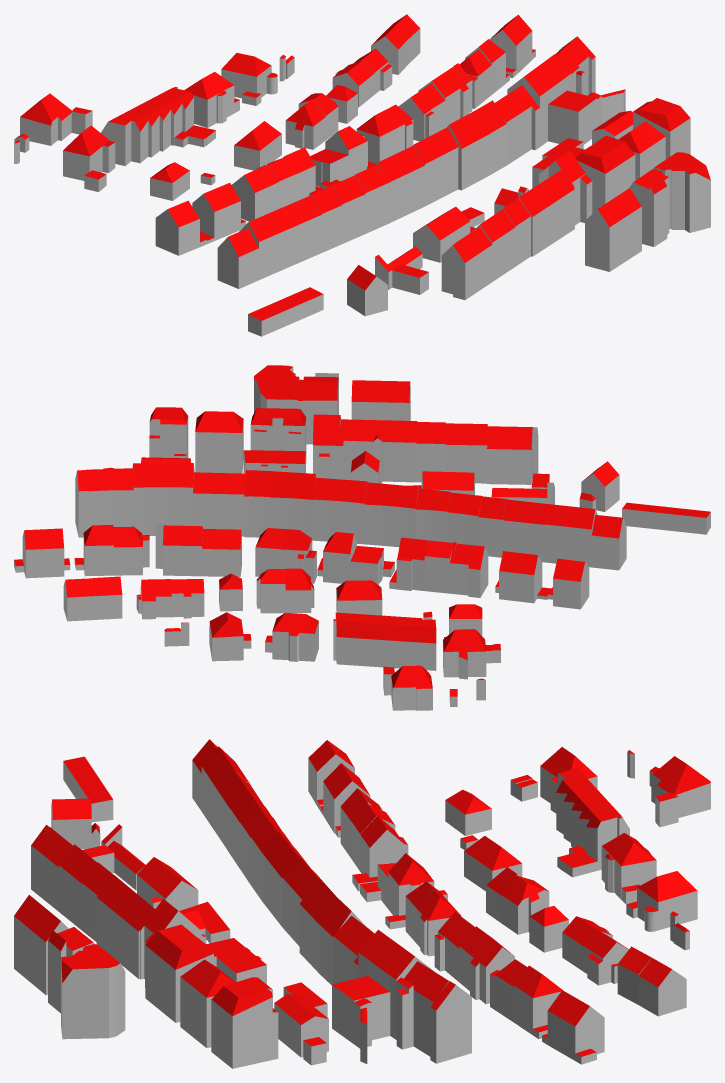
3 renders of one model, top to bottom at view 1: azimuth 30°, elevation 25°; view 2: azimuth 150°, elevation 25°; view 3: azimuth 270°, elevation 25°, orthographic. The views are drawn at different scales.
Bounding box in the file's own units: 200 × 24.83 × 200.
